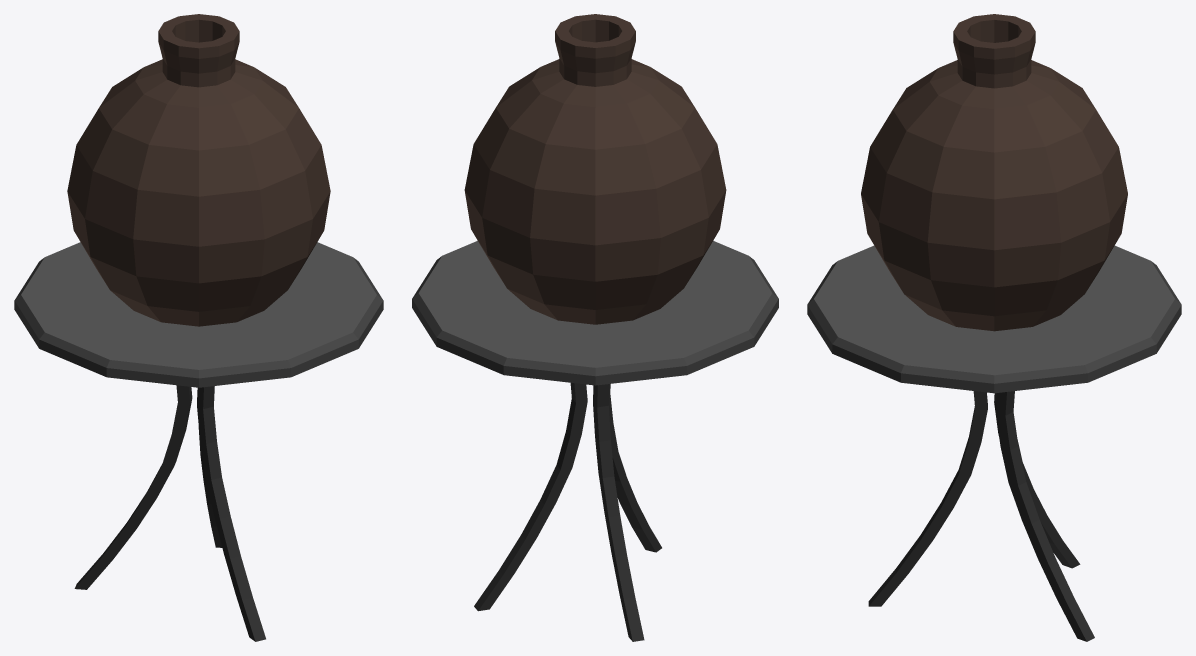
Rendered from ceramics_0517.fbx.
The picture shows the model from 3 angles, left to right: view 1: azimuth 30°, elevation 25°; view 2: azimuth 150°, elevation 25°; view 3: azimuth 270°, elevation 25°; orthographic projection. The views are drawn at different scales.
Parts seen in each view (by area): view 1: Cylinder002; view 2: Cylinder002; view 3: Cylinder002.
Part boxes in pixels (x1,y1,x2,y2): Cylinder002: (14,14,383,641); Cylinder002: (412,14,778,641); Cylinder002: (807,14,1181,641).
Size of the model in its own units: 88.6 by 149 by 88.6.
Materials: 1 (1 with a texture image).
